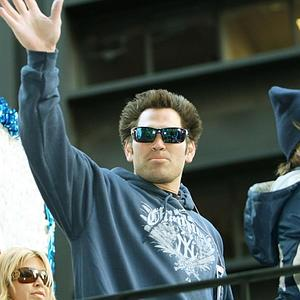person: (4, 1, 235, 300)
